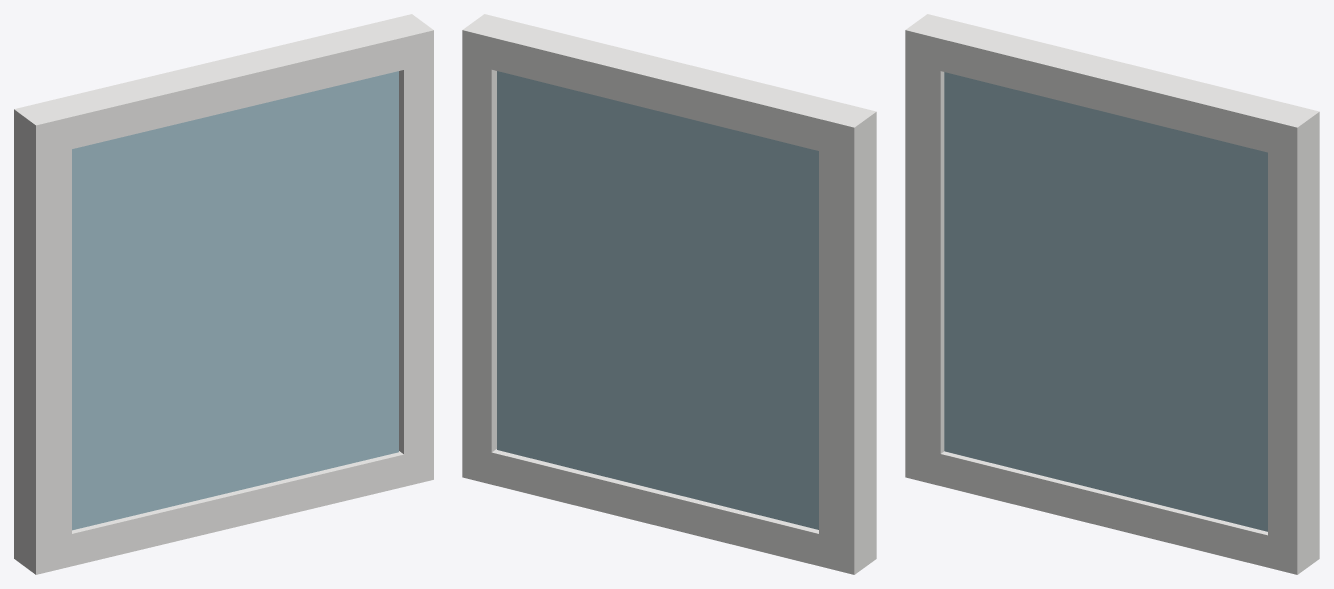
Rendered from Window_12.fbx.
3 renders of one model, left to right at view 1: azimuth 30°, elevation 25°; view 2: azimuth 150°, elevation 25°; view 3: azimuth 330°, elevation 25°, orthographic.
Parts seen in each view (by area): view 1: Window_12; view 2: Window_12; view 3: Window_12.
Boxes of the visible parts, x1,y1,x2,y2 form: Window_12: (14,14,433,574); Window_12: (462,14,876,574); Window_12: (905,14,1319,574).
Size of the model in its own units: 168 by 17.74 by 183.
